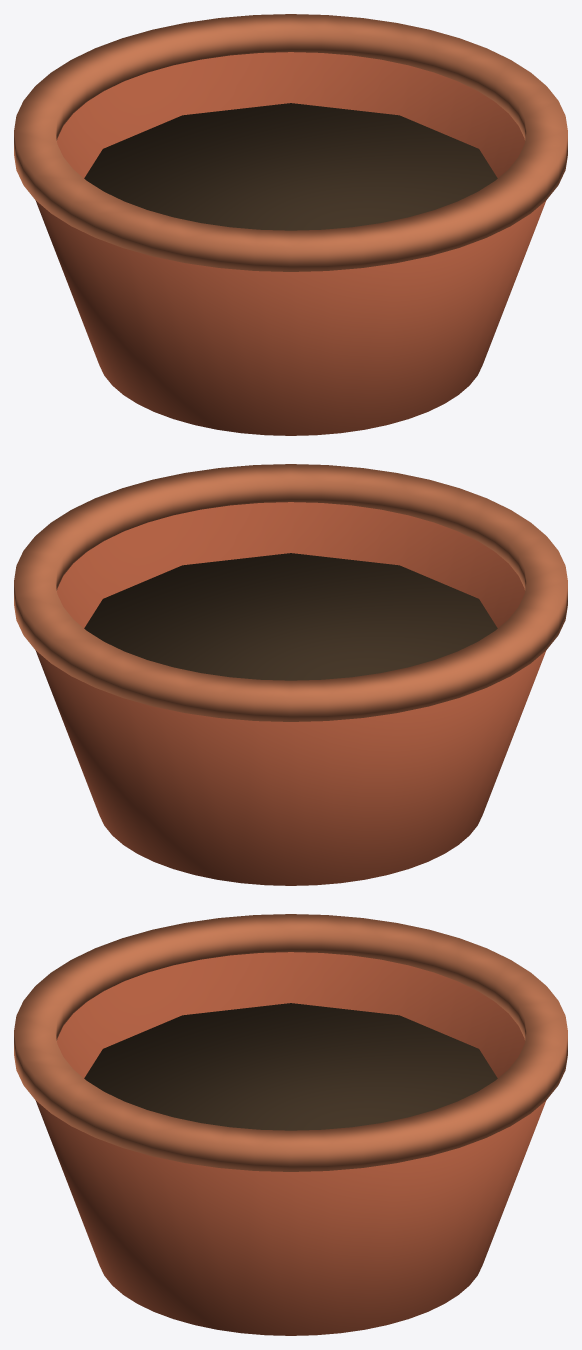
3 views of the same model, one above another, from view 1: azimuth 30°, elevation 25°; view 2: azimuth 150°, elevation 25°; view 3: azimuth 270°, elevation 25° (orthographic).
Parts seen in each view (by area): view 1: Open terracotta vessel, Upper lip, Soil; view 2: Open terracotta vessel, Upper lip, Soil; view 3: Open terracotta vessel, Upper lip, Soil.
Part boxes in pixels (x1,y1,x2,y2): Open terracotta vessel: (35, 52, 546, 435); Upper lip: (14, 14, 567, 271); Soil: (84, 103, 497, 230); Open terracotta vessel: (35, 502, 546, 885); Upper lip: (14, 464, 567, 721); Soil: (84, 553, 497, 680); Open terracotta vessel: (35, 952, 546, 1335); Upper lip: (14, 914, 567, 1171); Soil: (84, 1003, 497, 1130).
Bounding box in the file's own units: 0.63 × 0.28 × 0.63.
